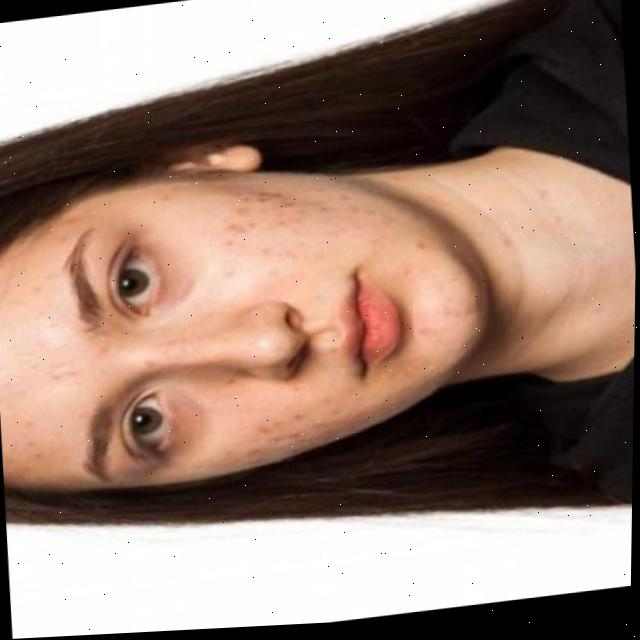Acne: (238, 384, 345, 473), (213, 184, 298, 262)
